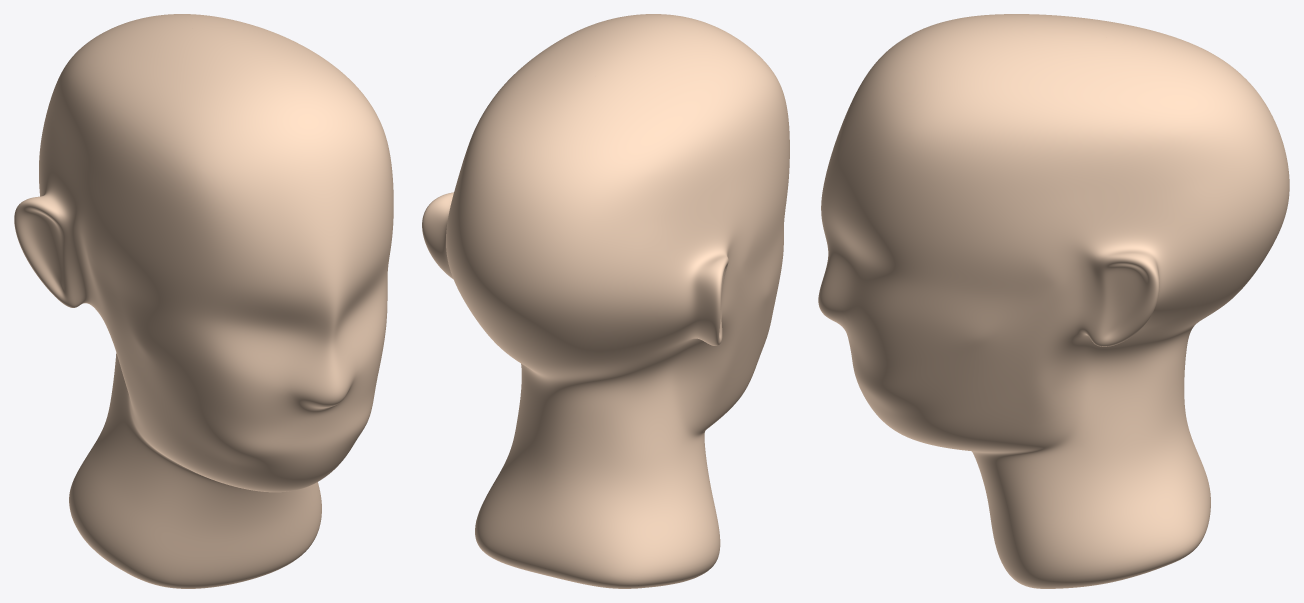
File: headdy.obj
3 views of the same model, side by side, from view 1: azimuth 30°, elevation 25°; view 2: azimuth 150°, elevation 25°; view 3: azimuth 270°, elevation 25° (orthographic). The views are drawn at different scales.
Visible parts, largest first — view 1: Head; view 2: Head; view 3: Head.
Boxes of the visible parts, bbox=[...] form: Head: bbox=[14, 14, 393, 588]; Head: bbox=[422, 14, 789, 588]; Head: bbox=[818, 14, 1289, 588].
Size of the model in its own units: 0.5717 by 0.9361 by 0.7559.
